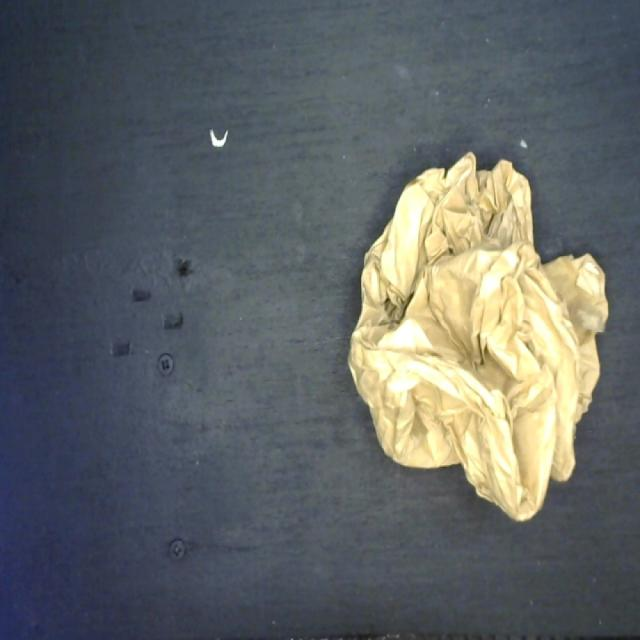biodegradable: (344, 147, 612, 534)
